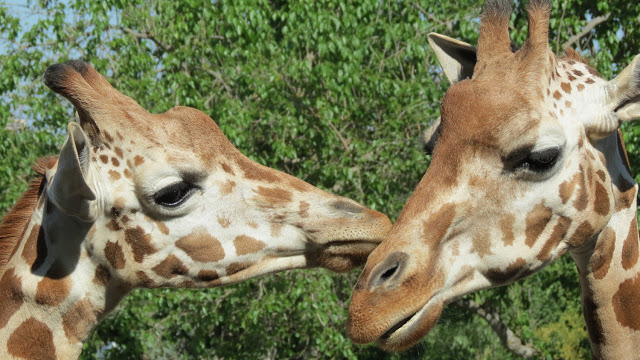Jirafa: (32, 45, 347, 360), (365, 46, 640, 320)
